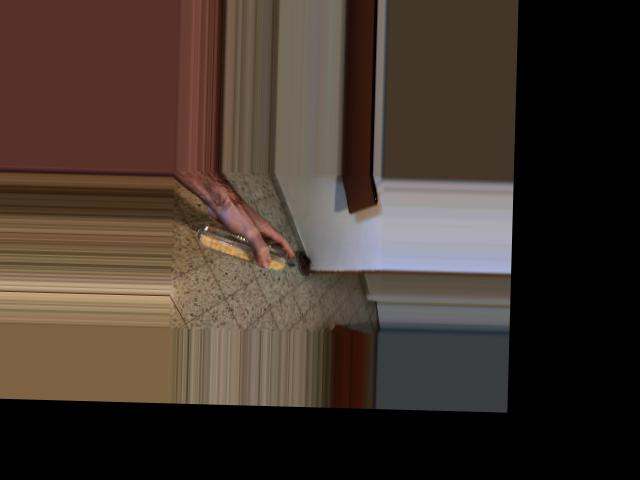cheese: (206, 200, 301, 283)
